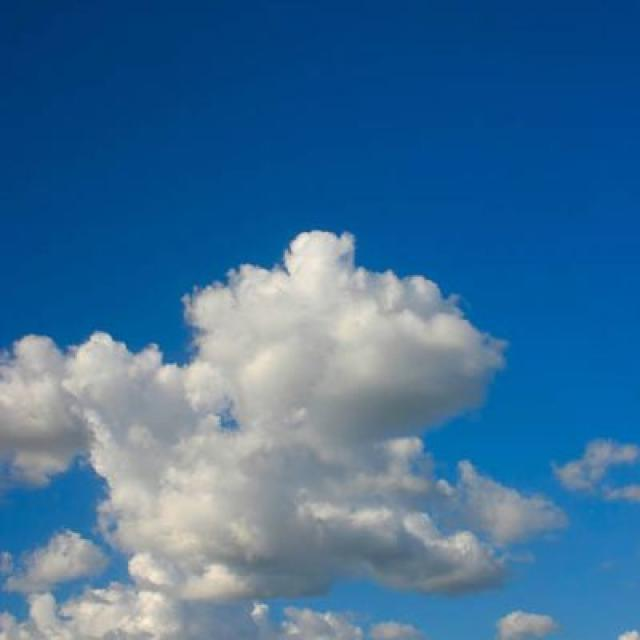Ac: (1, 147, 637, 629)
